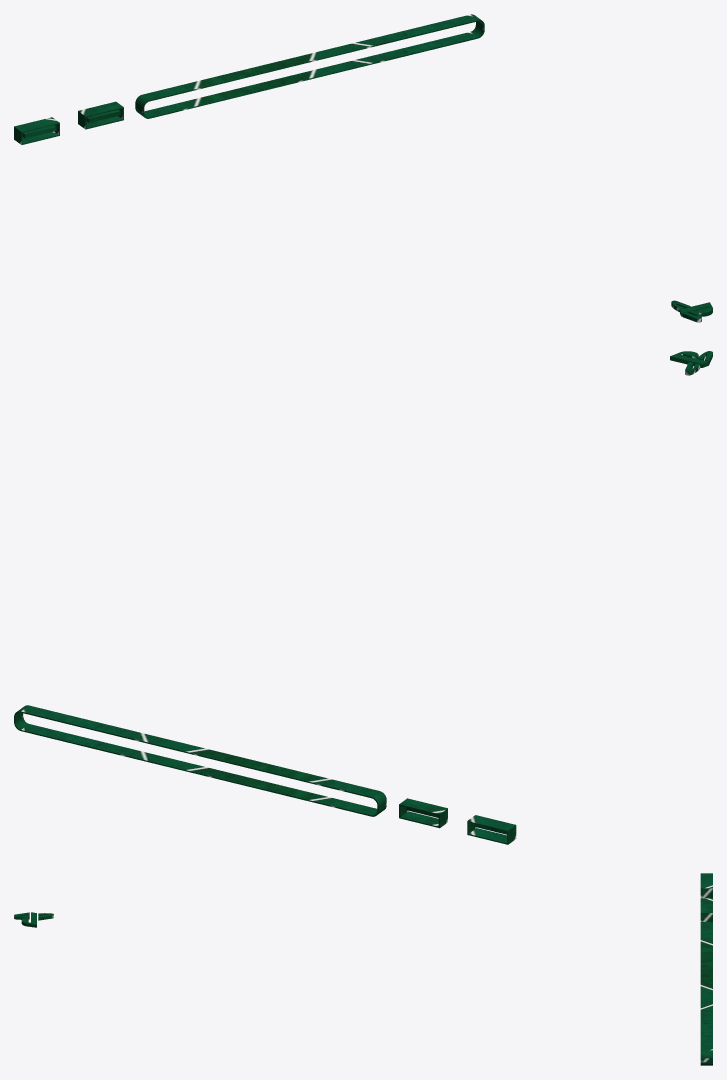
The model's file is Aluminum_-_Dark.obj.
3 renders of one model, top to bottom at view 1: azimuth 30°, elevation 25°; view 2: azimuth 150°, elevation 25°; view 3: azimuth 270°, elevation 25°, orthographic. The views are drawn at different scales.
Size of the model in its own units: 0.1672 by 0.0297 by 0.2741.
1 material, 1 textured.
